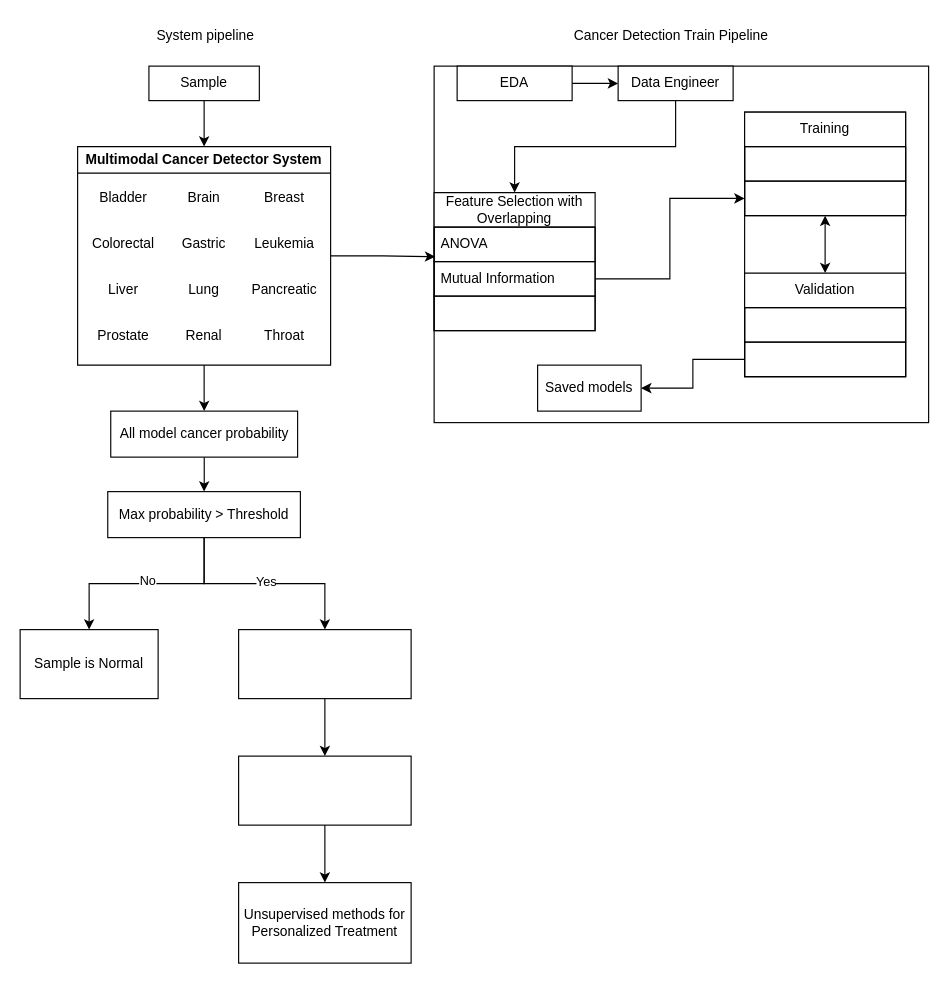
Some shapes in this 949 by 983 pixel diagram are drawn without their labels. The centre of each missing label's shape, as x and y in pixels:
"Cancer subtype classification" goes at pixel 324 790.
"Get most important gene, cancer type" goes at pixel 324 663.
"K-Fold" goes at pixel 824 359.
"Lasso Regression" goes at pixel 824 163.
"LOOCV" goes at pixel 824 324.
"Random Forest" goes at pixel 824 198.
"Variance Threshold" goes at pixel 514 313.
